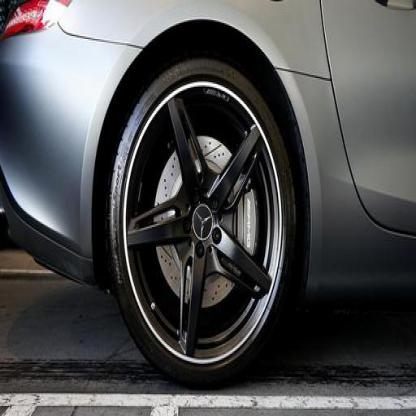Tire: (108, 55, 298, 389)
